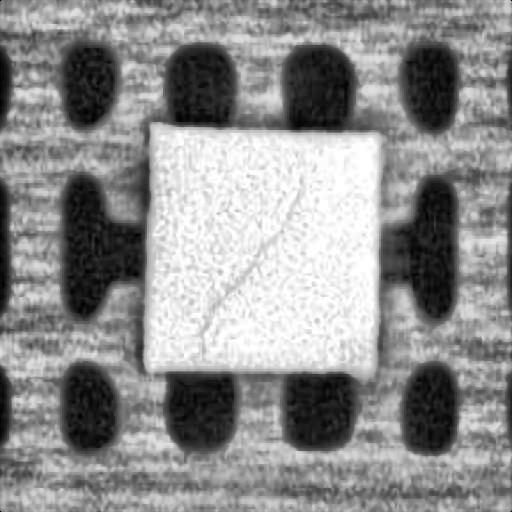DIE_CRACK: (198, 180, 302, 332)
